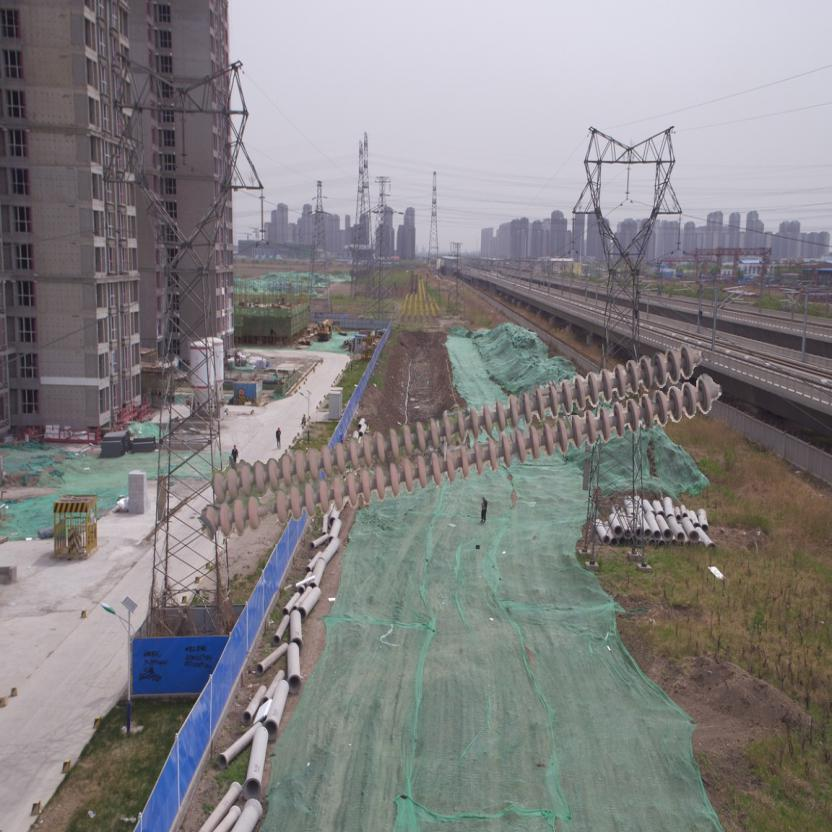defect: (244, 482, 288, 531)
